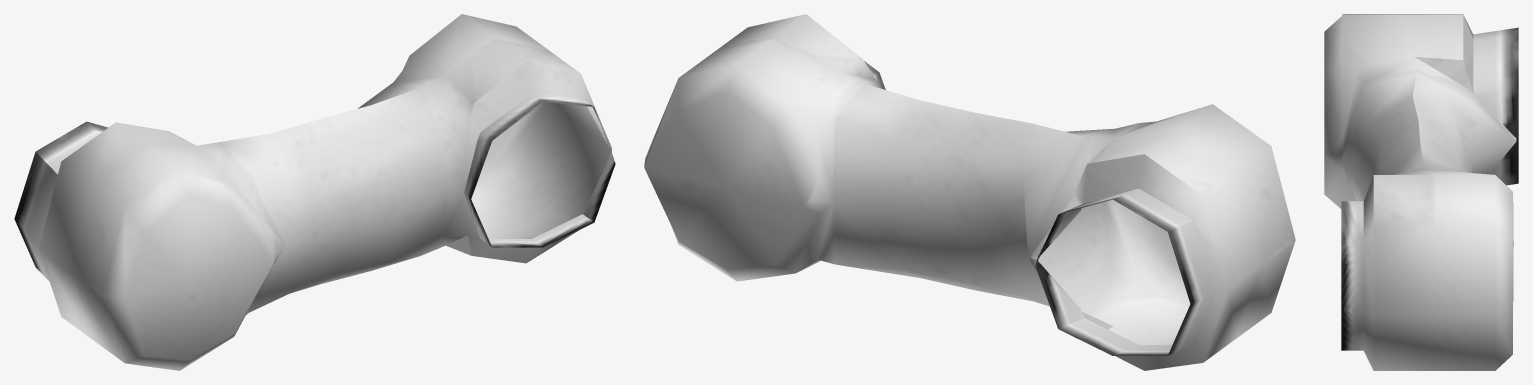
Rendered from little_arm_link_6.dae.
The picture shows the model from 3 angles, left to right: view 1: azimuth 30°, elevation 25°; view 2: azimuth 150°, elevation 25°; view 3: azimuth 270°, elevation 25°; orthographic projection. The views are drawn at different scales.
Parts seen in each view (by area): view 1: Little_Arm_6; view 2: Little_Arm_6; view 3: Little_Arm_6.
Part boxes in pixels (x1,y1,x2,y2): Little_Arm_6: (14, 14, 615, 370); Little_Arm_6: (644, 14, 1295, 370); Little_Arm_6: (1324, 14, 1518, 370).
Bounding box in the file's own units: 0.6892 × 0.2342 × 0.2623.
Materials: 1 (1 with a texture image).
